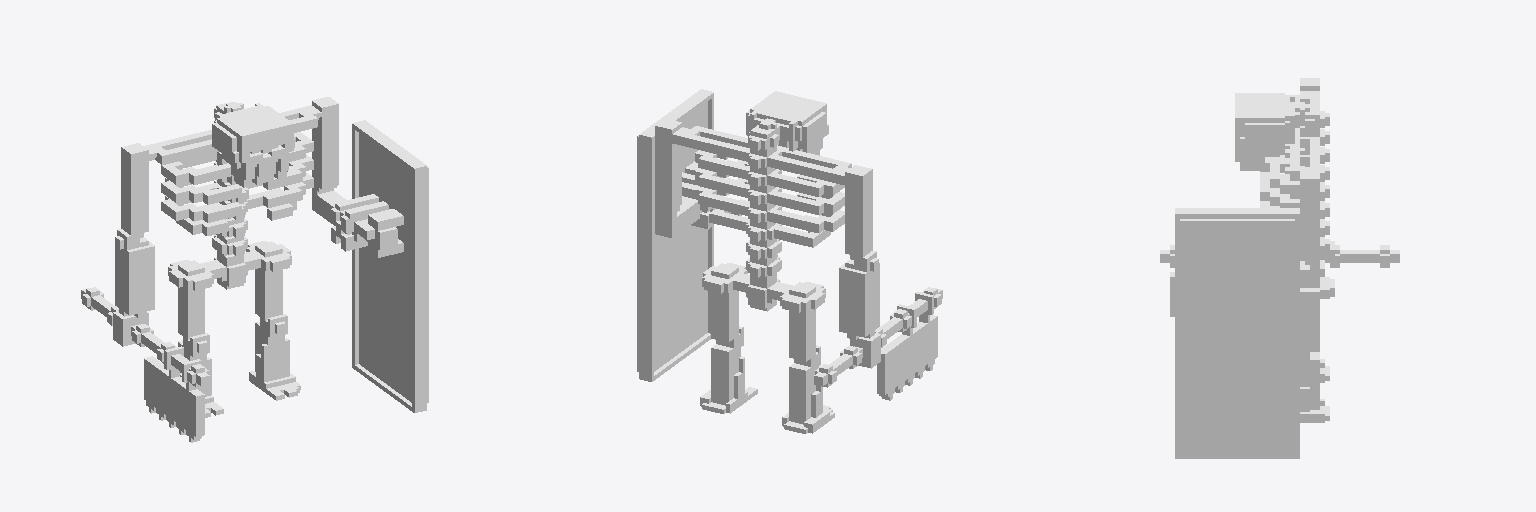
Rendered from 11_SKELLINGTON_CHAMPION.obj.
3 renders of one model, left to right at view 1: azimuth 30°, elevation 25°; view 2: azimuth 150°, elevation 25°; view 3: azimuth 270°, elevation 25°, orthographic.
Visible parts, largest first — view 1: object 1; view 2: object 1; view 3: object 1.
Boxes of the visible parts, <box> form: object 1: <box>81,97,428,442</box>; object 1: <box>637,89,942,433</box>; object 1: <box>1160,78,1399,458</box>.
Bounding box in the file's own units: 5.7 × 6.4 × 4.8.